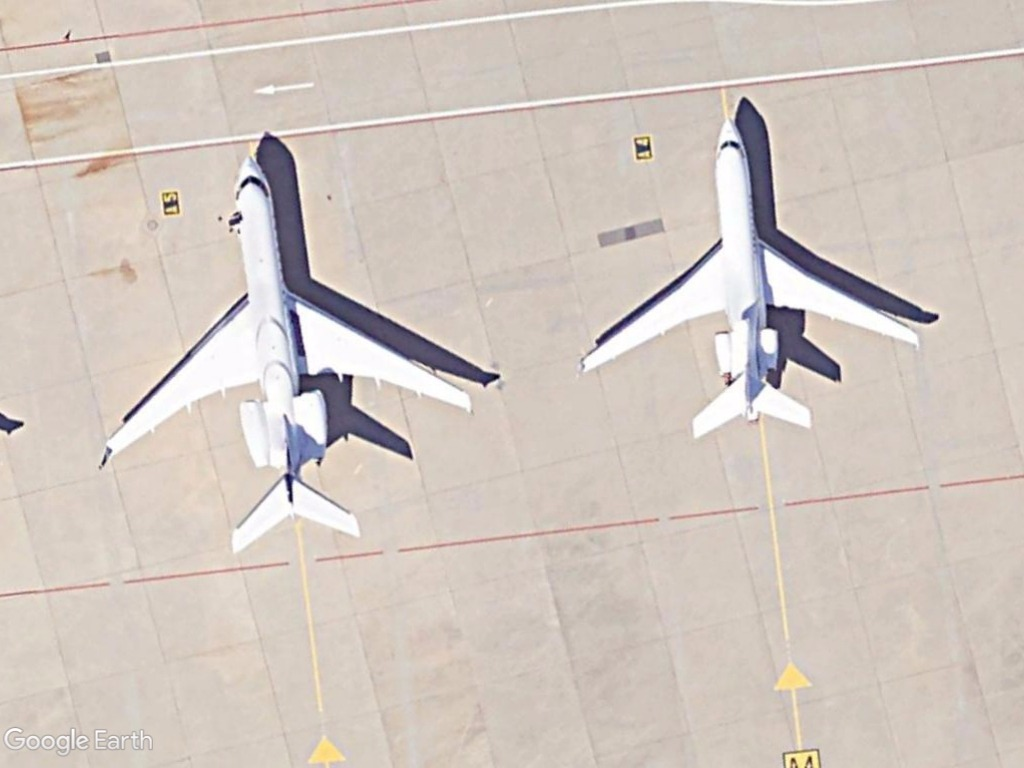chartered: (94, 155, 474, 557), (572, 112, 924, 444)
